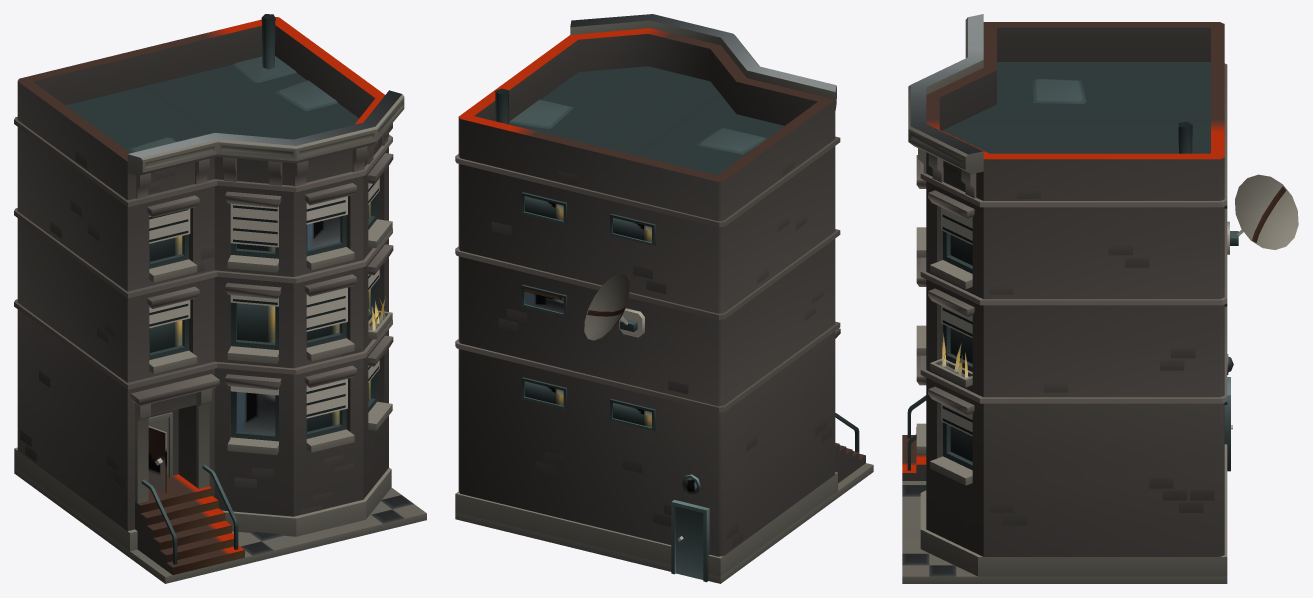
File: Building_3B.fbx
3 renders of one model, left to right at view 1: azimuth 30°, elevation 25°; view 2: azimuth 150°, elevation 25°; view 3: azimuth 270°, elevation 25°, orthographic. The views are drawn at different scales.
Visible parts, largest first — view 1: Building_3B, Window_Lights_3B; view 2: Building_3B, Dish_3B, Window_Lights_3B; view 3: Building_3B, Dish_3B.
Boxes of the visible parts, <box> form: Building_3B: <box>14,14,426,583</box>; Window_Lights_3B: <box>237,216,340,434</box>; Building_3B: <box>455,14,873,583</box>; Dish_3B: <box>584,274,629,340</box>; Window_Lights_3B: <box>524,289,563,313</box>; Building_3B: <box>902,14,1238,583</box>; Dish_3B: <box>1235,174,1298,249</box>.
Size of the model in its own units: 12.42 by 18.14 by 14.64.
